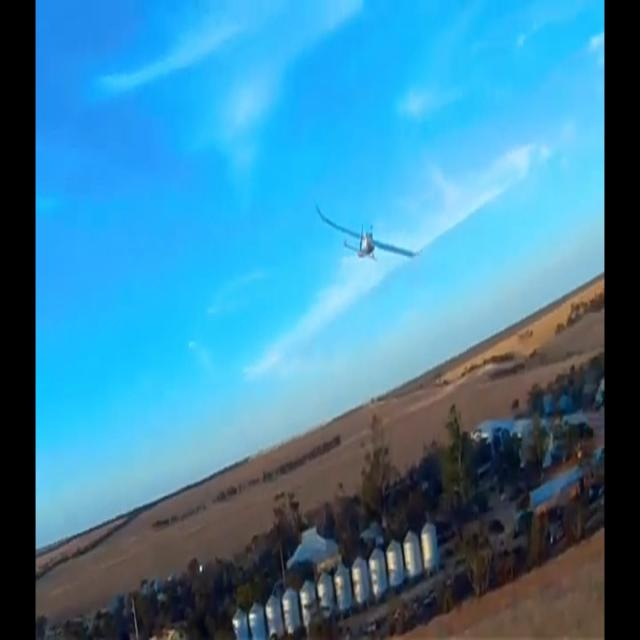iha: (345, 202, 392, 264)
